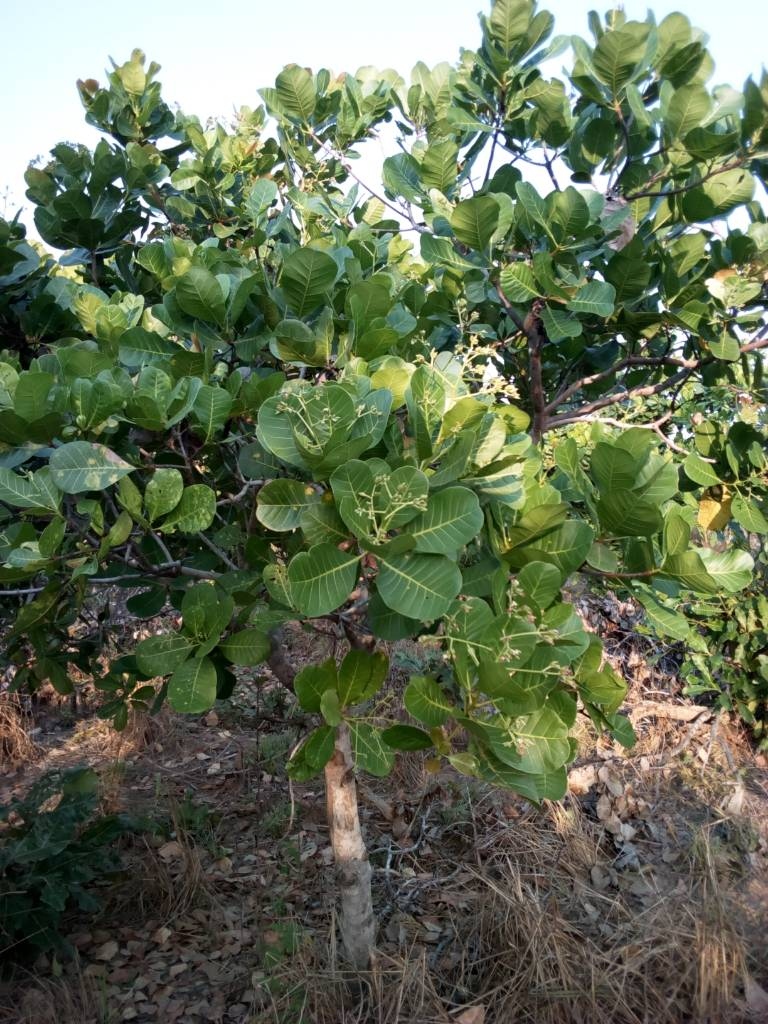Carence minérale: (46, 435, 141, 504)
